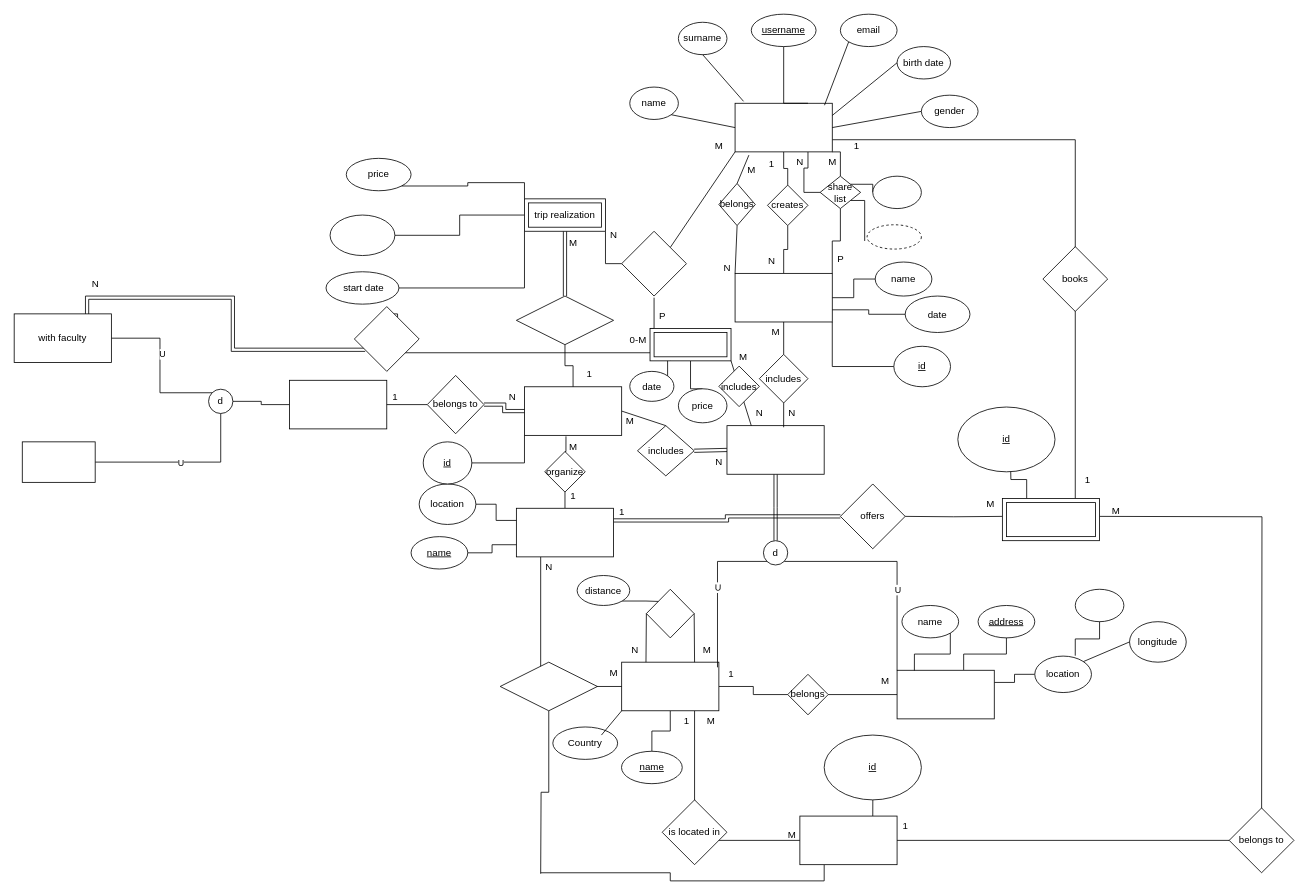
The diagram is 1308 pixels wide and 896 high, and some of its shapes have lost their labels. The centre of each missing label's shape, as x and y in pixels:
Agency: pixel 565 532
attends: pixel 653 263
category: pixel 338 404
City: pixel 670 686
comment: pixel 893 236
date of sharing: pixel 896 192
end date: pixel 362 235
faculty visit: pixel 690 344
happens: pixel 565 320
hotel: pixel 848 840
includes the visit: pixel 386 338
is neighbor: pixel 670 613
latitude: pixel 1099 605
offers reservations in: pixel 548 686
Place: pixel 945 694
rezervation: pixel 1051 519
travel list: pixel 783 297
travel spot: pixel 775 449
Trip: pixel 573 410
User: pixel 783 127
without faculty: pixel 58 461
